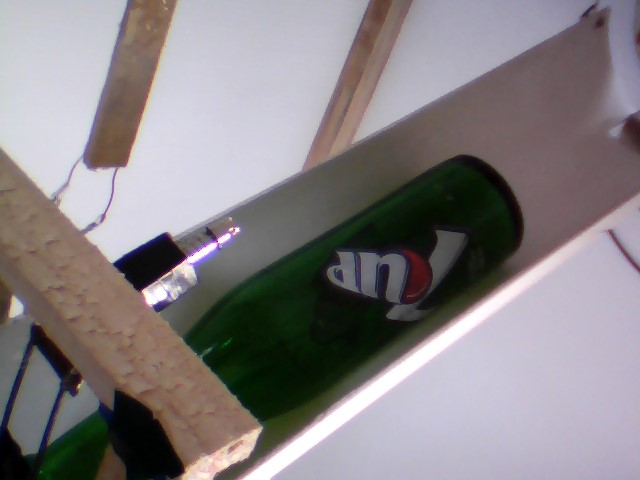vidrio: (172, 149, 532, 424)
